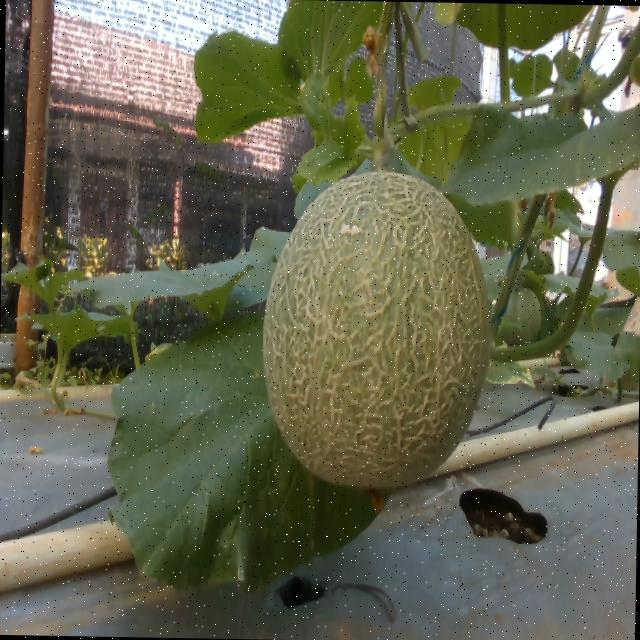melon: (263, 172, 491, 487)
